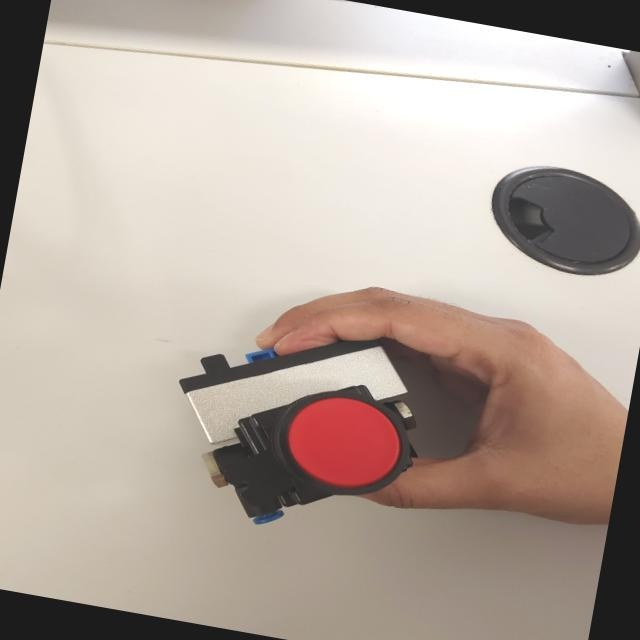push button: (147, 306, 453, 559)
